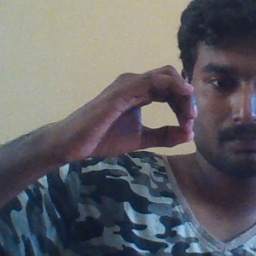O: (64, 54, 200, 165)
